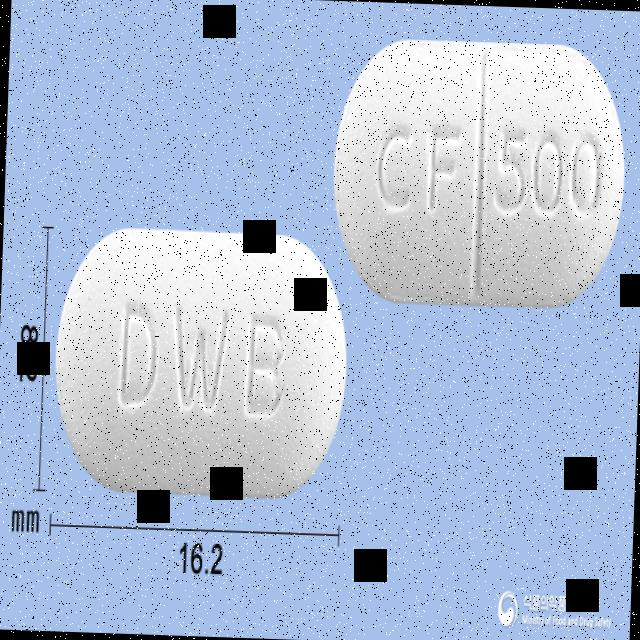Bearcin: (48, 219, 354, 506)
